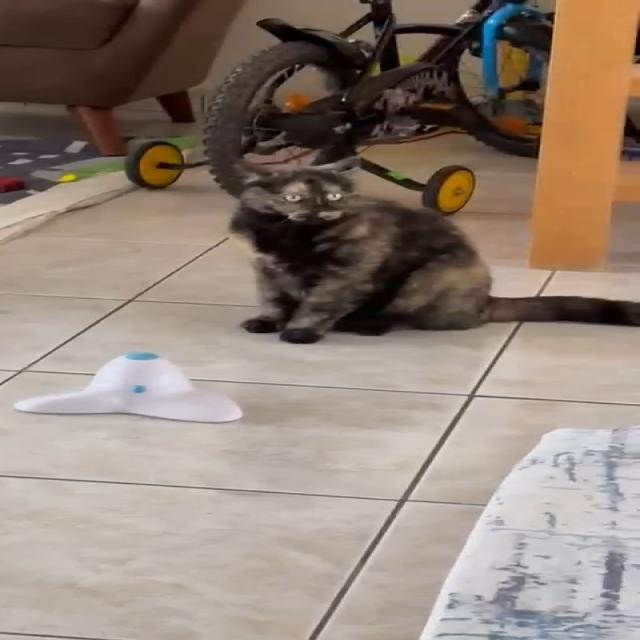authorized: (226, 167, 638, 344)
